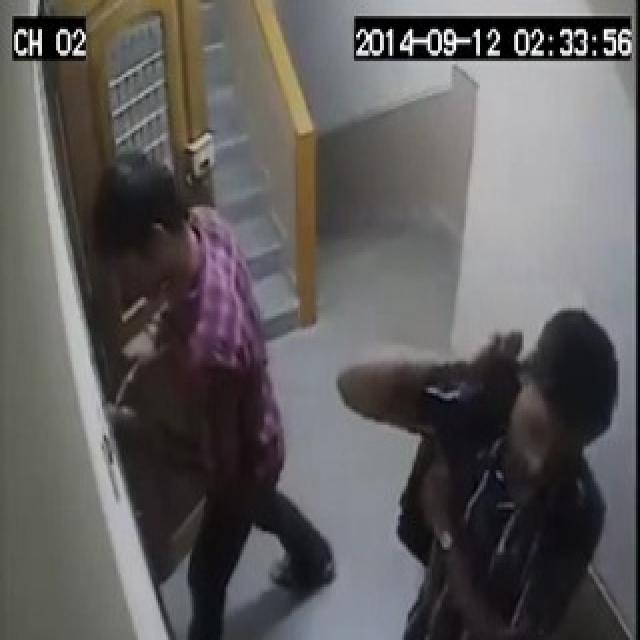burglary: (52, 216, 262, 528)
